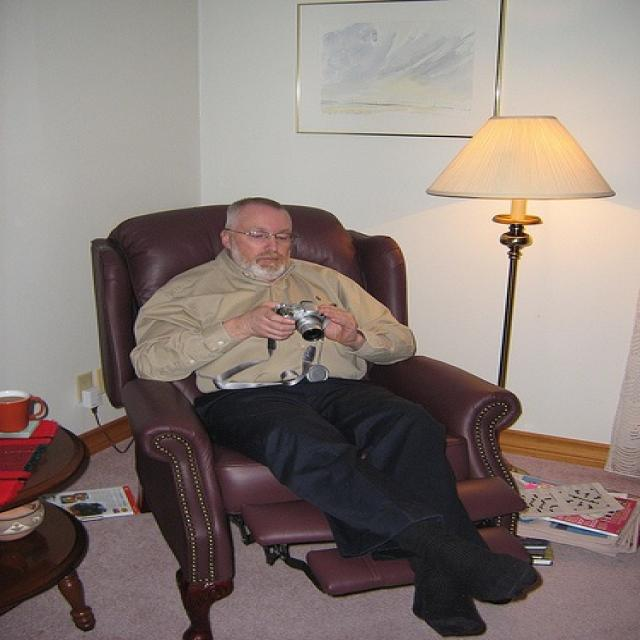chair: (89, 204, 522, 638)
